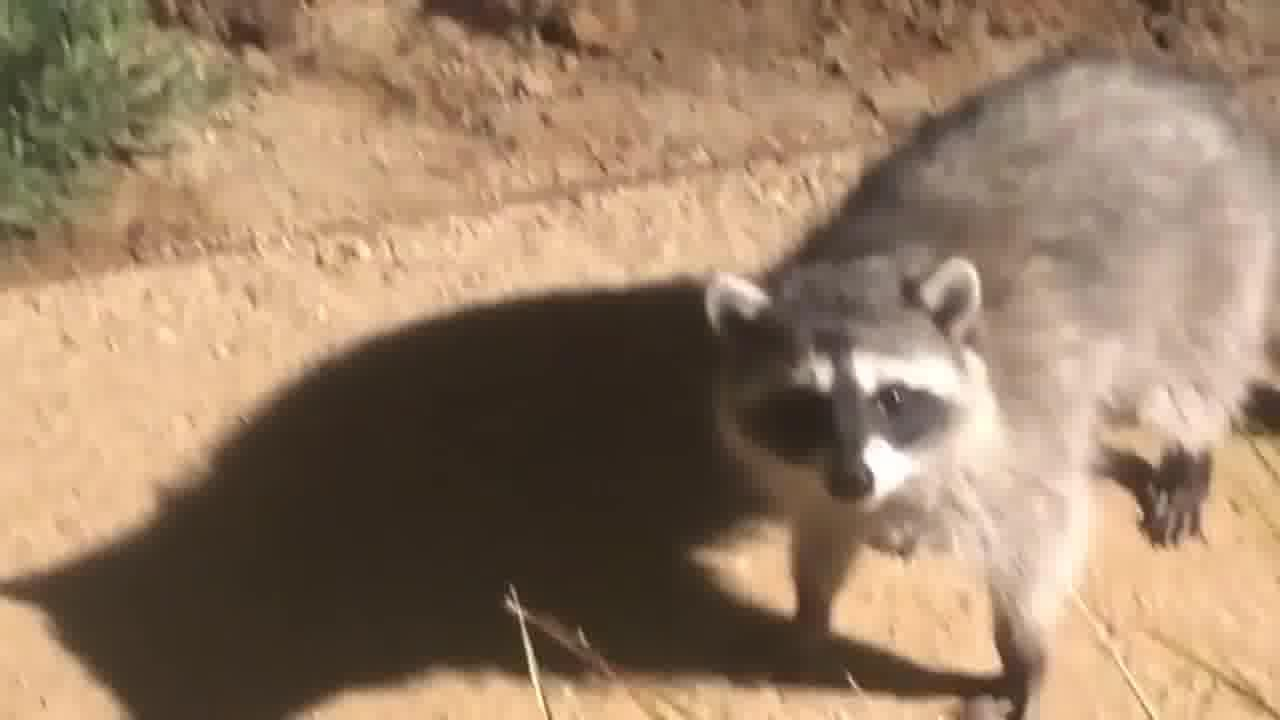raccoon: (690, 21, 1280, 720)
